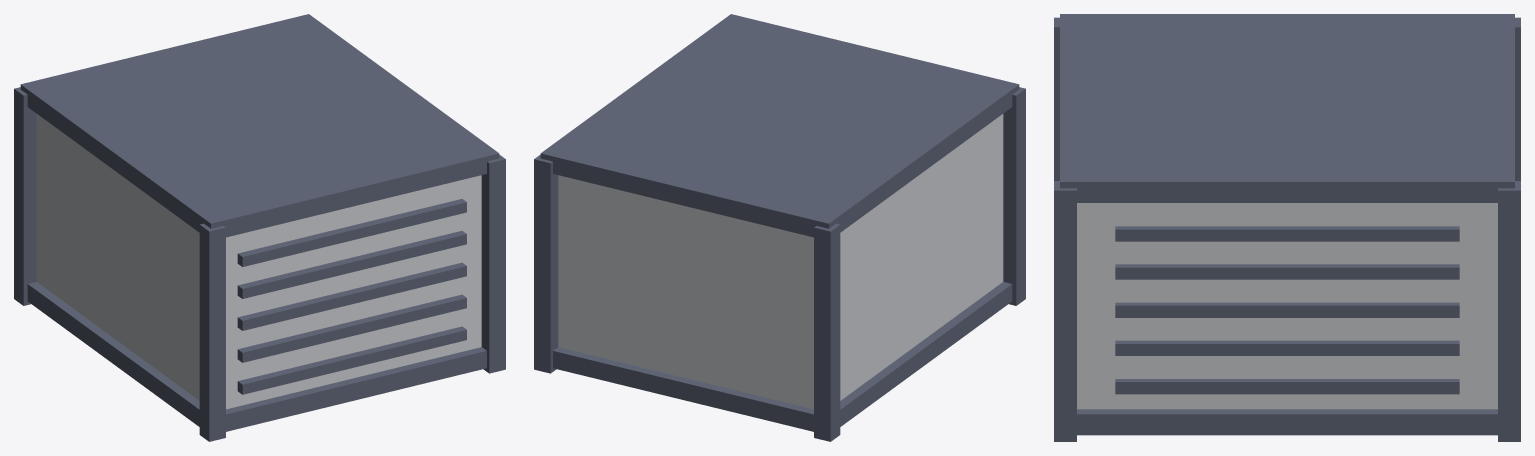
Rendered from container.glb.
3 renders of one model, left to right at view 1: azimuth 30°, elevation 25°; view 2: azimuth 150°, elevation 25°; view 3: azimuth 270°, elevation 25°, orthographic. The views are drawn at different scales.
Parts seen in each view (by area): view 1: container; view 2: container; view 3: container.
Boxes of the visible parts, x1=… form: container: x1=14, y1=14, x2=505, y2=441; container: x1=534, y1=14, x2=1025, y2=441; container: x1=1054, y1=14, x2=1520, y2=441.
Size of the model in its own units: 2.14 by 1.49 by 2.44.
